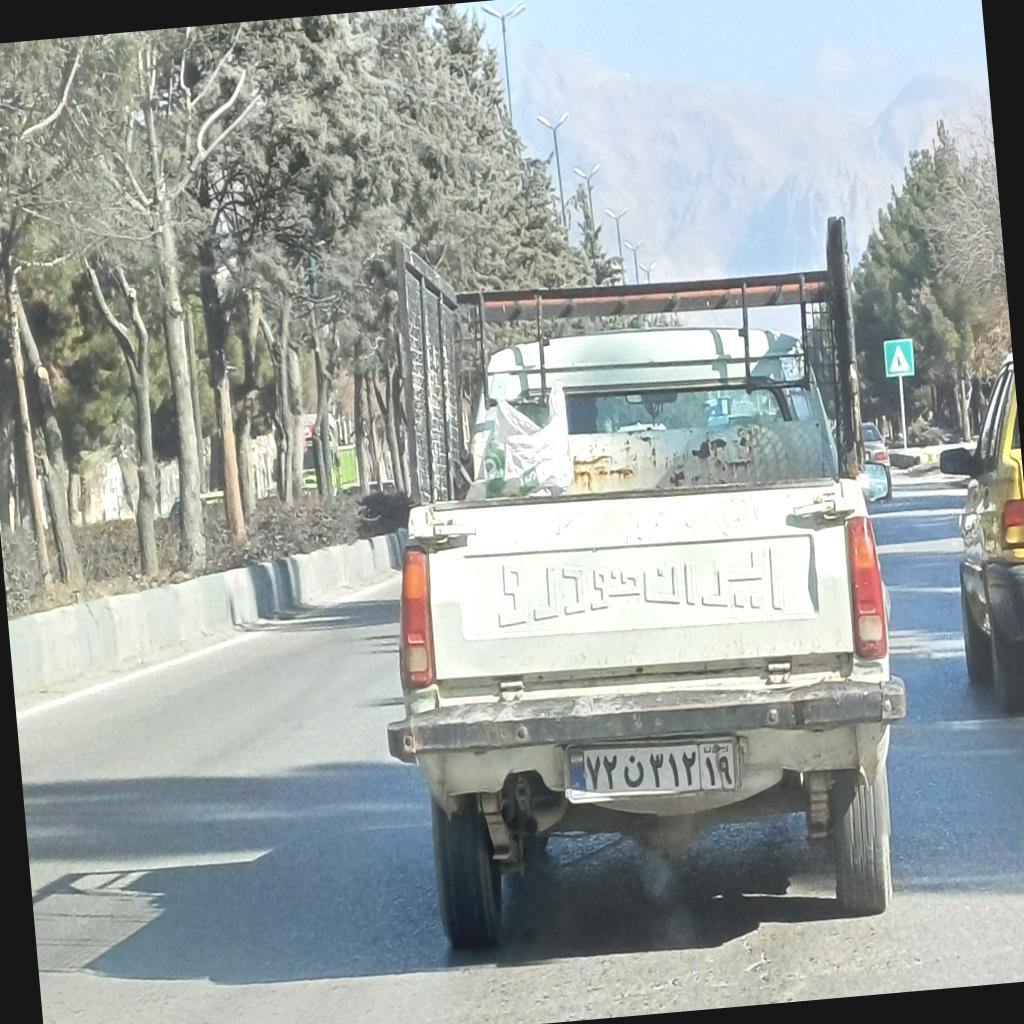Plates: (566, 732, 736, 806)
